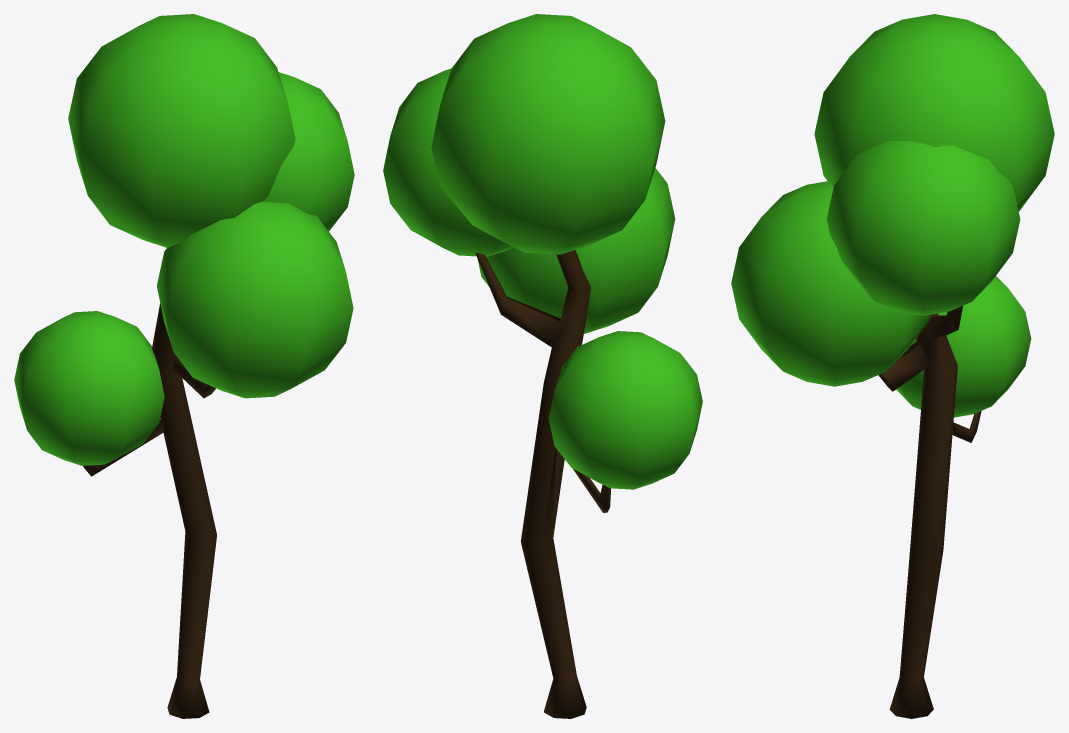
File: tree.glb
The picture shows the model from 3 angles, left to right: view 1: azimuth 30°, elevation 25°; view 2: azimuth 150°, elevation 25°; view 3: azimuth 270°, elevation 25°; orthographic projection. The views are drawn at different scales.
Parts seen in each view (by area): view 1: tree_1; view 2: tree_1; view 3: tree_1.
Part boxes in pixels (<box>): tree_1: <box>14,14,354,718</box>; tree_1: <box>383,14,702,718</box>; tree_1: <box>731,14,1054,718</box>.
Bounding box in the file's own units: 3.67 × 7.67 × 3.27.
